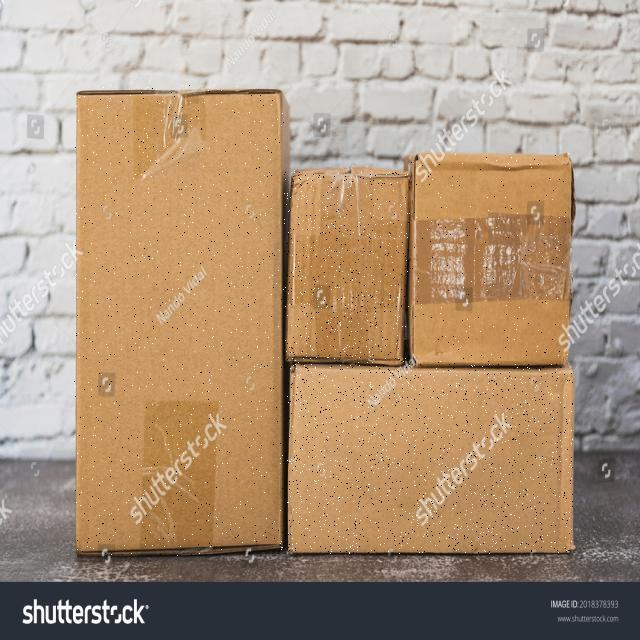BoxFace: (74, 85, 284, 556), (287, 364, 573, 554), (410, 153, 570, 366), (284, 172, 410, 370)
